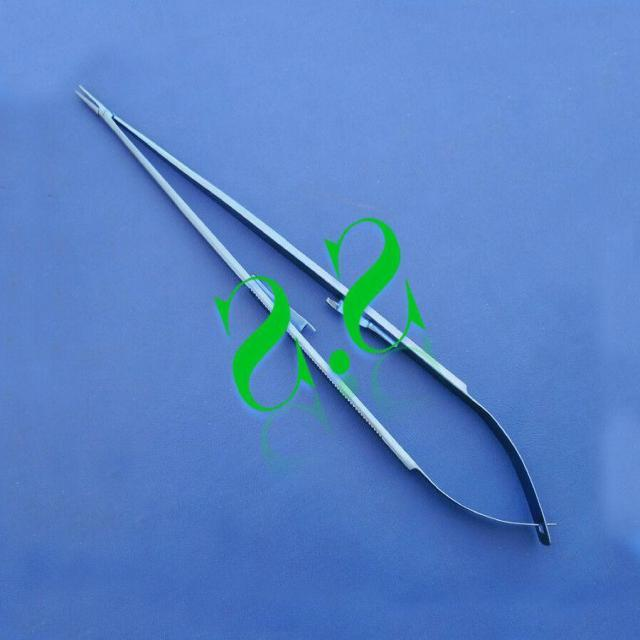Castroviejo: (70, 80, 560, 550)
